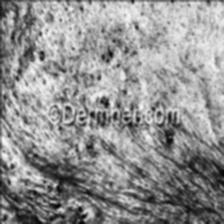Non-Cancerous Skin Condition: (20, 170, 89, 224), (96, 41, 116, 67), (158, 130, 174, 149), (25, 50, 46, 62), (98, 92, 110, 108)
